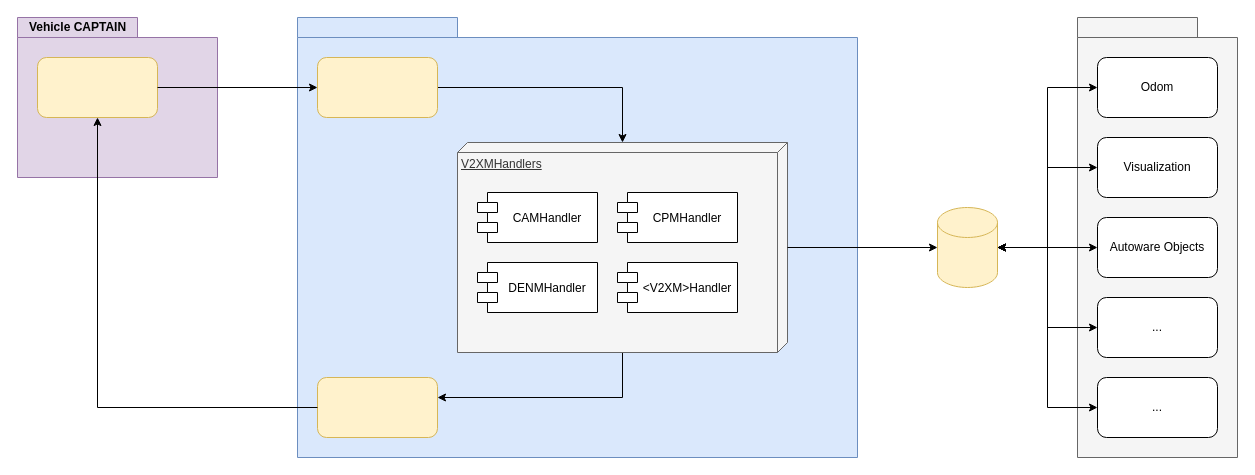
Some shapes in this 1255 by 475 pixel diagram are drawn without their labels. The shapes that lost their labels are listed below. From the top down, each one's box as (x1, y1, x2, y2) in pixels, then its label:
(36, 56, 158, 118): Routing Middleware
(316, 56, 438, 118): Receive
(296, 16, 858, 458): V2X Gateway Node (ROS)
(936, 206, 998, 288): ROS2 DDS
(1076, 16, 1238, 458): Fancy ROS2 Stuff
(316, 376, 438, 438): Send
